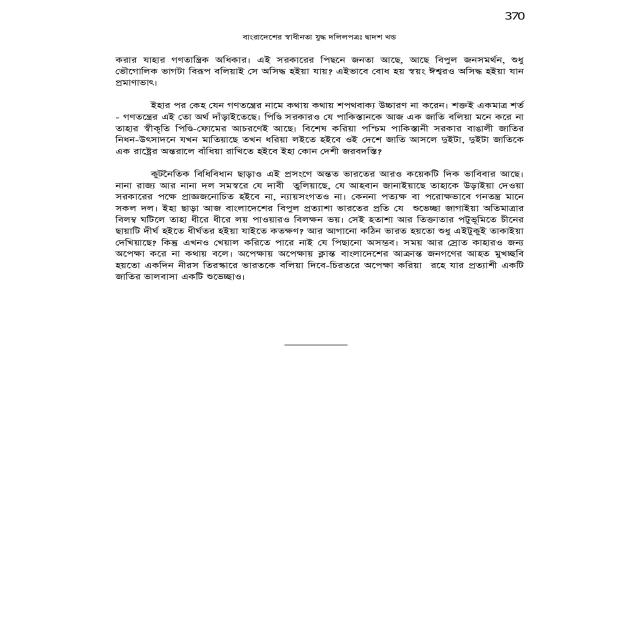page number: (498, 10, 533, 29)
paragraph: (109, 165, 528, 284), (114, 96, 531, 159), (114, 49, 533, 95)
text: (223, 29, 410, 45)
